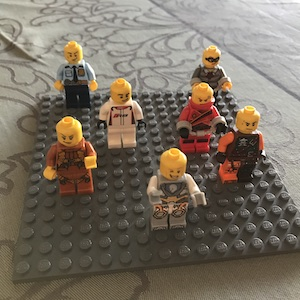Lego: (145, 147, 202, 231), (42, 116, 98, 196), (214, 103, 266, 182), (96, 78, 146, 151), (175, 84, 225, 152), (54, 41, 98, 107), (189, 46, 232, 107)
